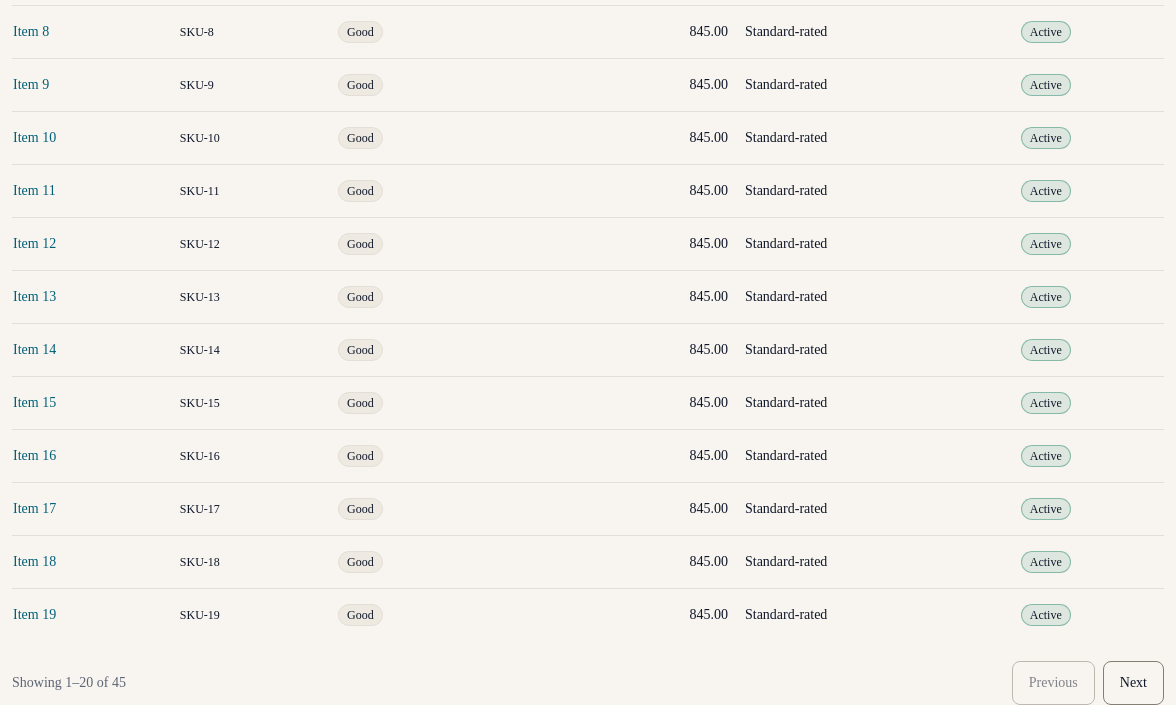
Test case: the catalog list › pages on take/skip with the filtered total
(page scrolled)
Expected: the button "Previous" is disabled, [1012,661,1095,704]
Click the button "Next" at [1133, 683], box [1103,661,1164,704]
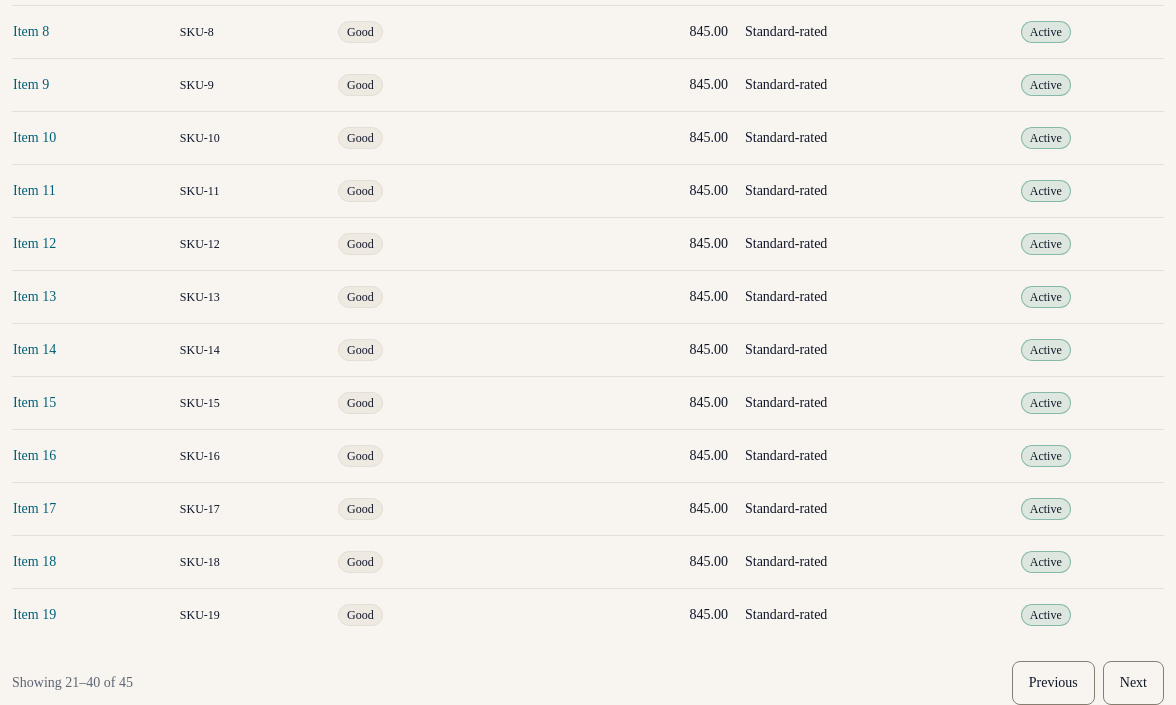
Expected: the text "Showing 21–40 of 45" is shown, [12,673,133,693]
Click the button "Next" at [1133, 683], box [1103,661,1164,704]
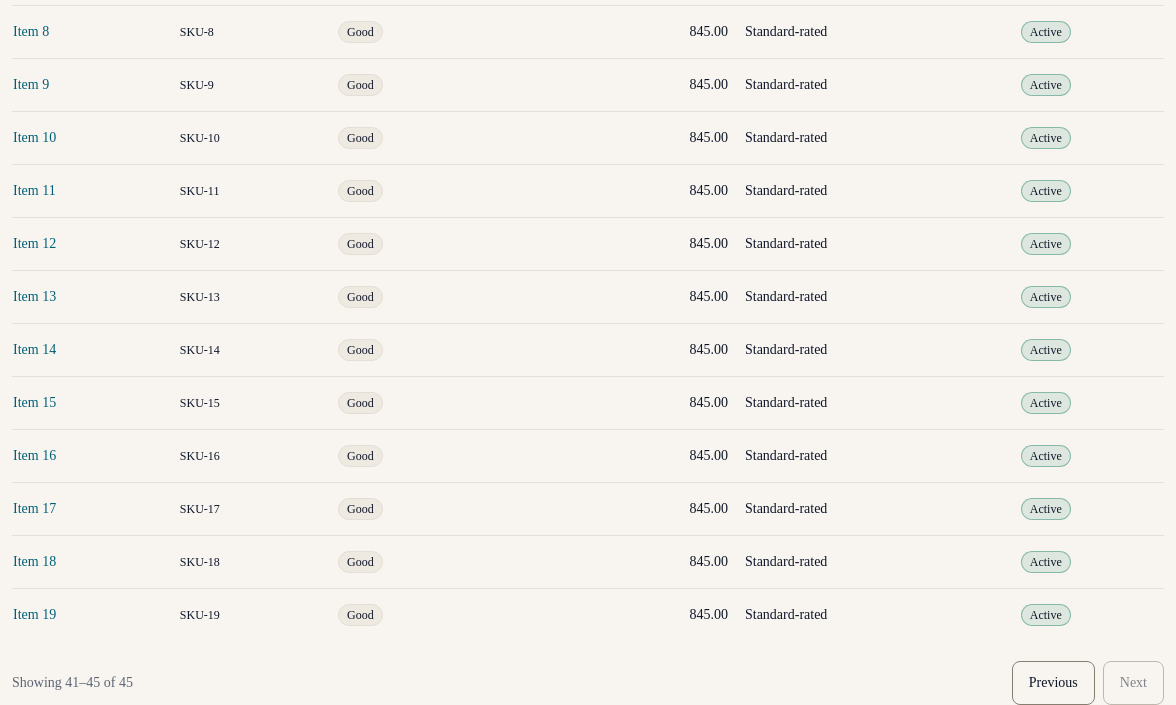
Expected: the text "Showing 41–45 of 45" is shown, [12,673,133,693]
Expected: the button "Next" is disabled, [1103,661,1164,704]
